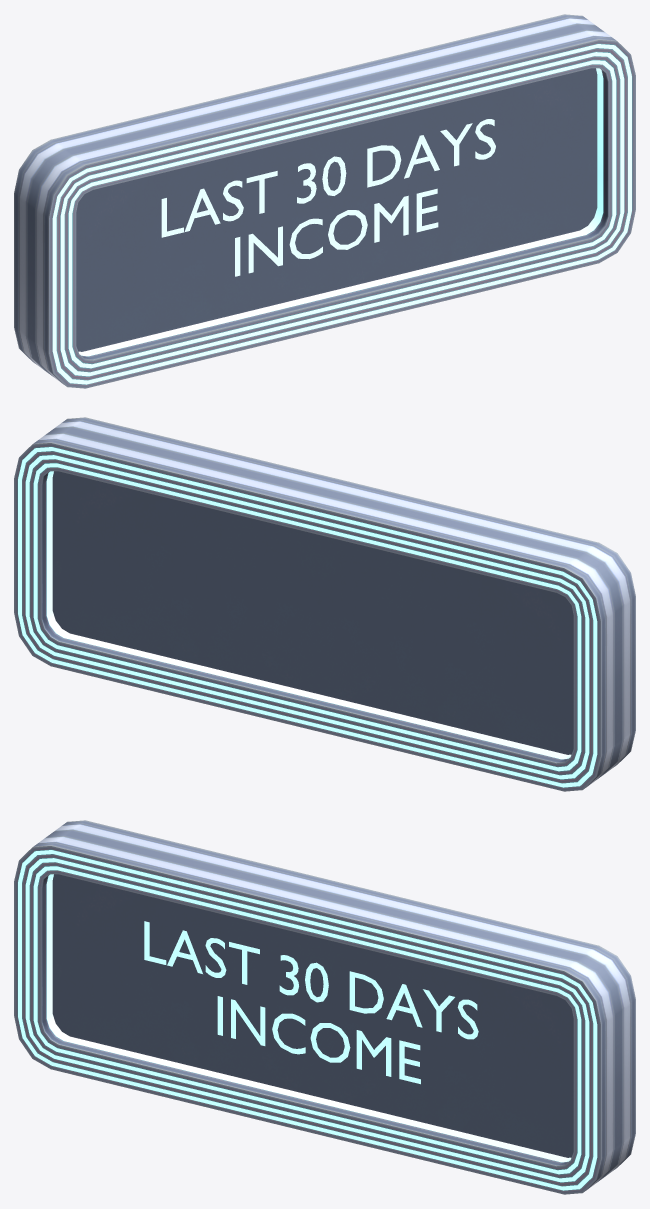
The model's file is obj_income.gltf.
3 renders of one model, top to bottom at view 1: azimuth 30°, elevation 25°; view 2: azimuth 150°, elevation 25°; view 3: azimuth 330°, elevation 25°, orthographic.
Parts seen in each view (by area): view 1: obj_income; view 2: obj_income; view 3: obj_income.
Boxes of the visible parts, x1,y1,x2,y2 form: obj_income: [14, 14, 635, 388]; obj_income: [14, 417, 635, 791]; obj_income: [14, 820, 635, 1194].
Size of what is drawn, in the model's own units: 4.27 by 1.55 by 0.439.
Materials: 2 (1 with a texture image).
